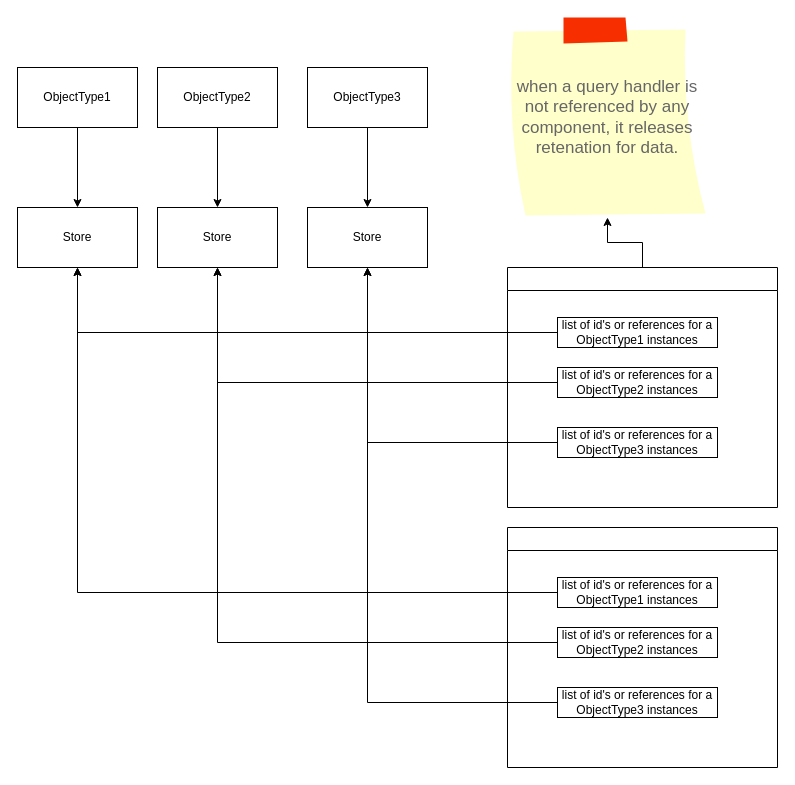
The diagram is 795 pixels wide and 785 high, and some of its shapes have lost their labels. Here are the shapes that lost their labels. From the top down, the box of each, then its label:
(506, 266, 778, 508): QueryHandler1
(506, 526, 778, 768): QueryHandler2
